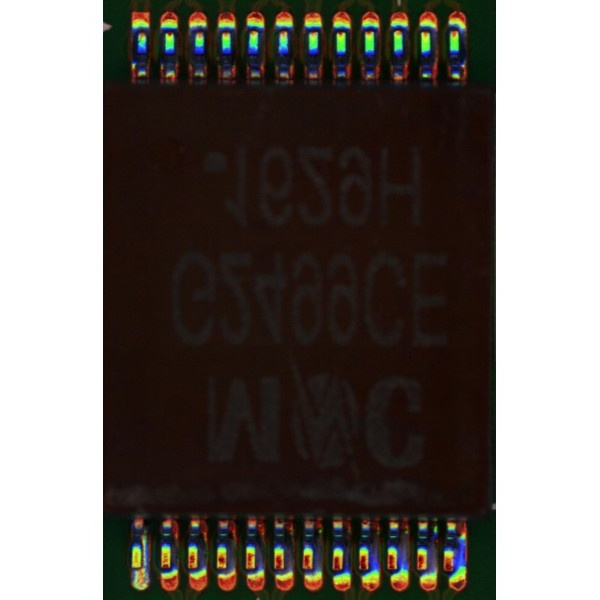Bad_podu: (134, 564, 142, 578)
Bad_qiaojiao: (142, 530, 149, 566)
